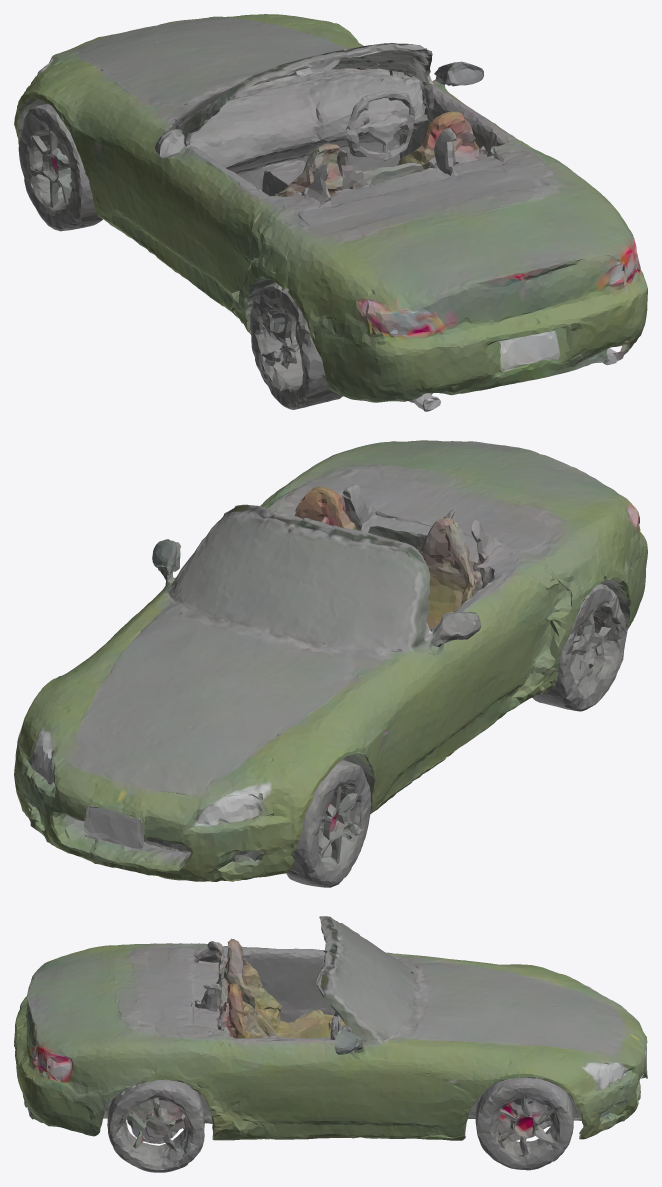
3 renders of one model, top to bottom at view 1: azimuth 30°, elevation 25°; view 2: azimuth 150°, elevation 25°; view 3: azimuth 270°, elevation 25°, orthographic. The views are drawn at different scales.
Parts seen in each view (by area): view 1: defaultobject; view 2: defaultobject; view 3: defaultobject.
Part boxes in pixels (x1,y1,x2,y2): defaultobject: (14,14,647,411); defaultobject: (14,440,647,887); defaultobject: (14,916,647,1172).
Size of the model in its own units: 0.4277 by 0.2907 by 0.9517.
